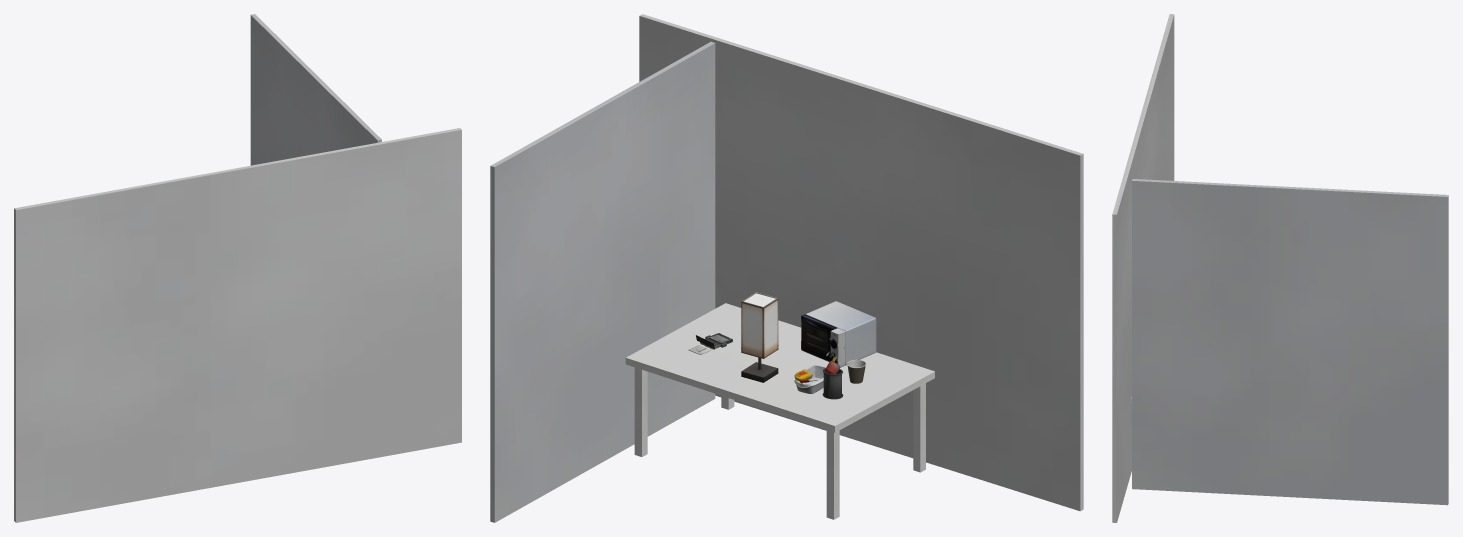
The model's file is ours.glb.
The picture shows the model from 3 angles, left to right: view 1: azimuth 30°, elevation 25°; view 2: azimuth 150°, elevation 25°; view 3: azimuth 270°, elevation 25°; orthographic projection. The views are drawn at different scales.
Parts seen in each view (by area): view 1: wall_0, wall_1; view 2: wall_0, wall_1, table_0, obj_toaster_oven_0, obj_lamp_0; view 3: wall_1, wall_0.
Boxes of the visible parts, left/top/right/bottom form: wall_0: left=14, top=128, right=461, bottom=522; wall_1: left=250, top=14, right=381, bottom=165; wall_0: left=639, top=14, right=1083, bottom=511; wall_1: left=490, top=42, right=715, bottom=522; table_0: left=625, top=303, right=934, bottom=519; obj_toaster_oven_0: left=801, top=301, right=876, bottom=367; obj_lamp_0: left=741, top=292, right=778, bottom=382; wall_1: left=1132, top=179, right=1448, bottom=505; wall_0: left=1112, top=14, right=1174, bottom=522.
Size of what is drawn, in the model's own units: 2.98 by 2.14 by 2.11.
Materials: 13 (13 with a texture image).
